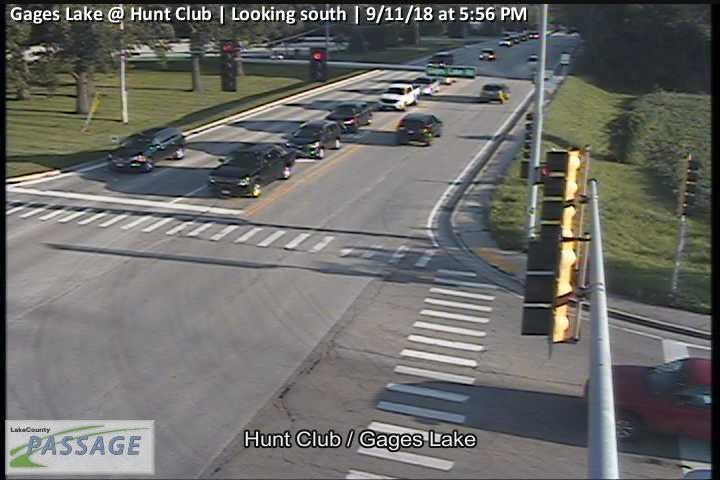SUV: (108, 126, 187, 173), (281, 120, 342, 161), (398, 111, 443, 146), (327, 100, 373, 134), (480, 83, 511, 104)
Sedan: (587, 357, 715, 442), (207, 143, 296, 196)
Truck: (378, 81, 420, 111), (411, 76, 441, 95)
